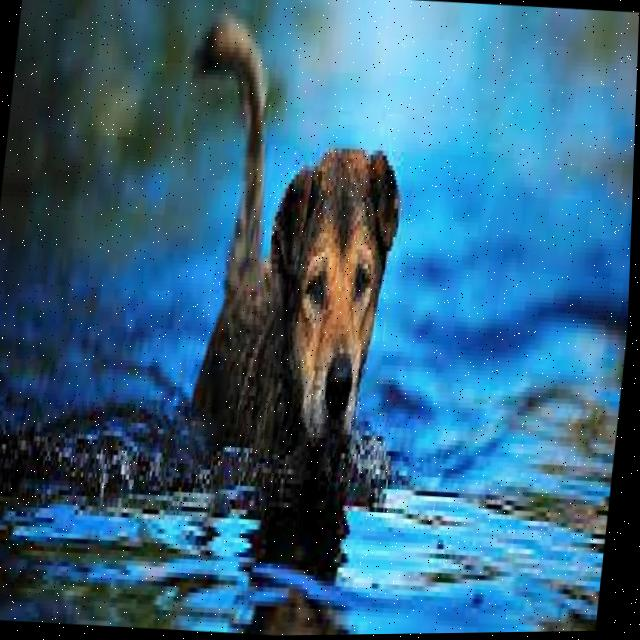dog: (159, 67, 437, 492)
